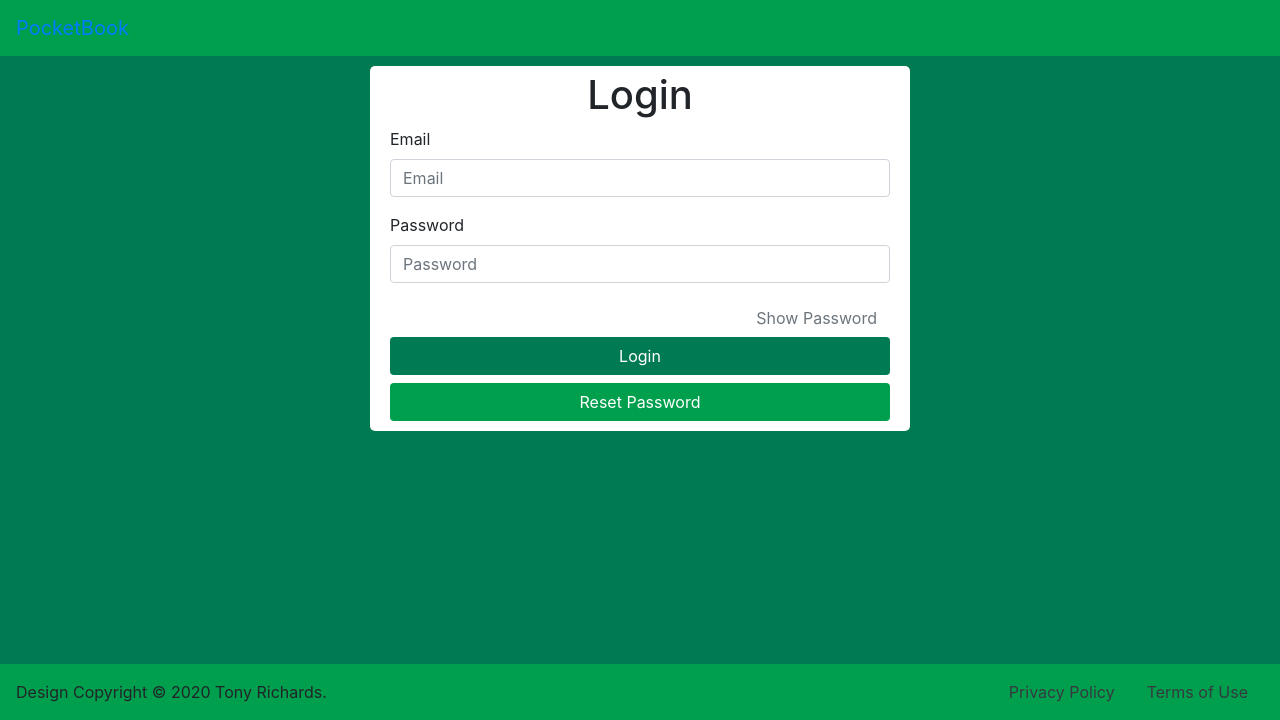
Test: Login Page › renders not authorised correctly
Type "test@sja.org.uk" into the field labelled "Email". click: (640, 178)
box: [390, 159, 890, 197]
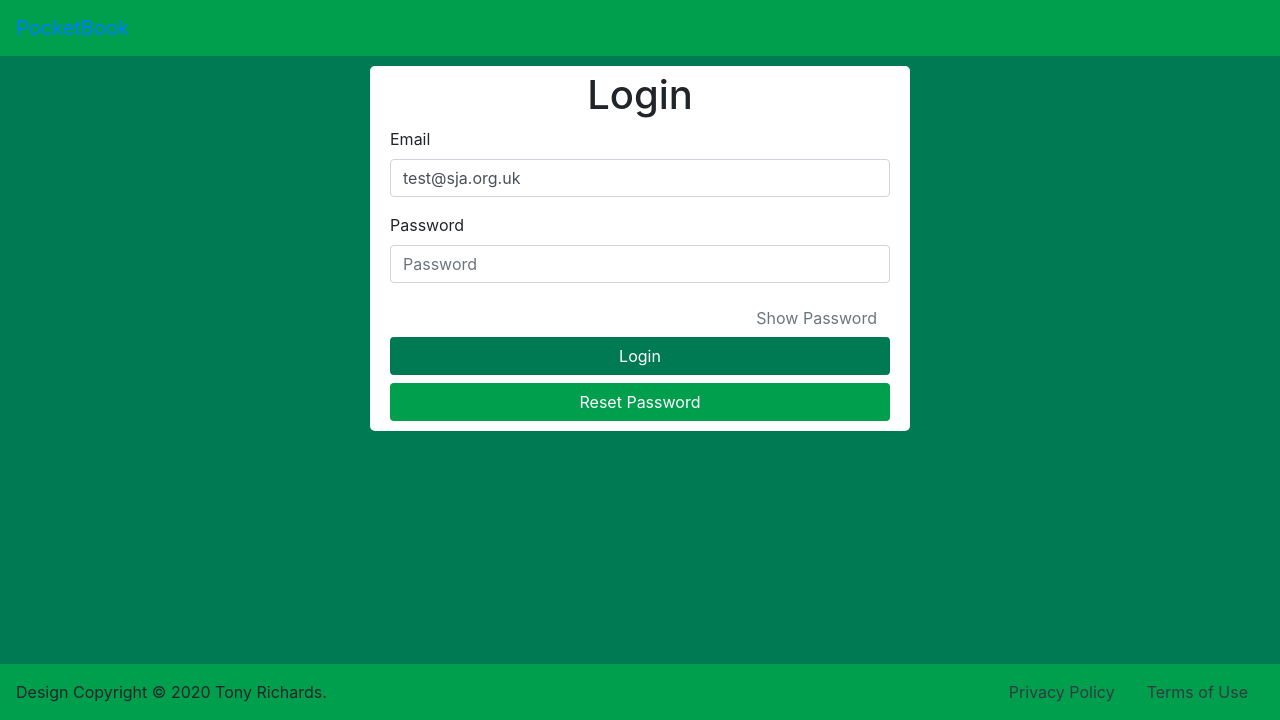
Type "testPassword" into the password field labelled "Password". click: (640, 264)
box: [390, 245, 890, 283]
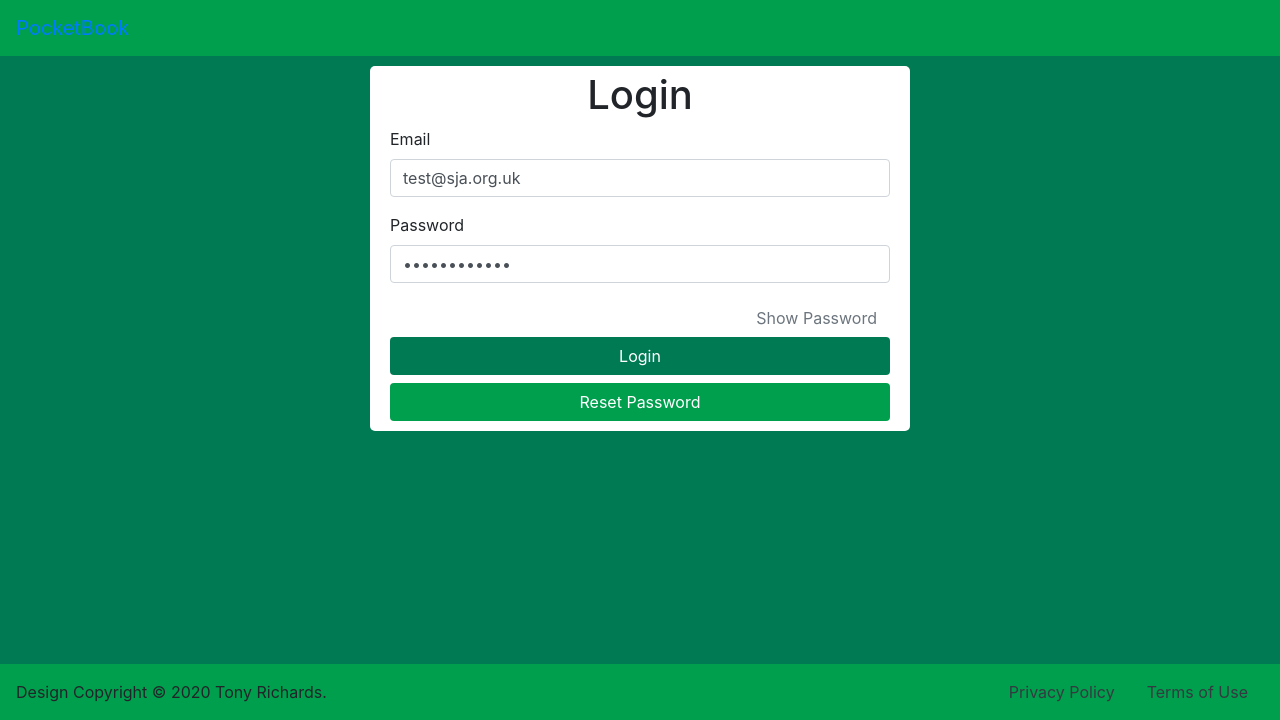
Click the button "Login". click: (640, 356)
box: [390, 337, 890, 375]
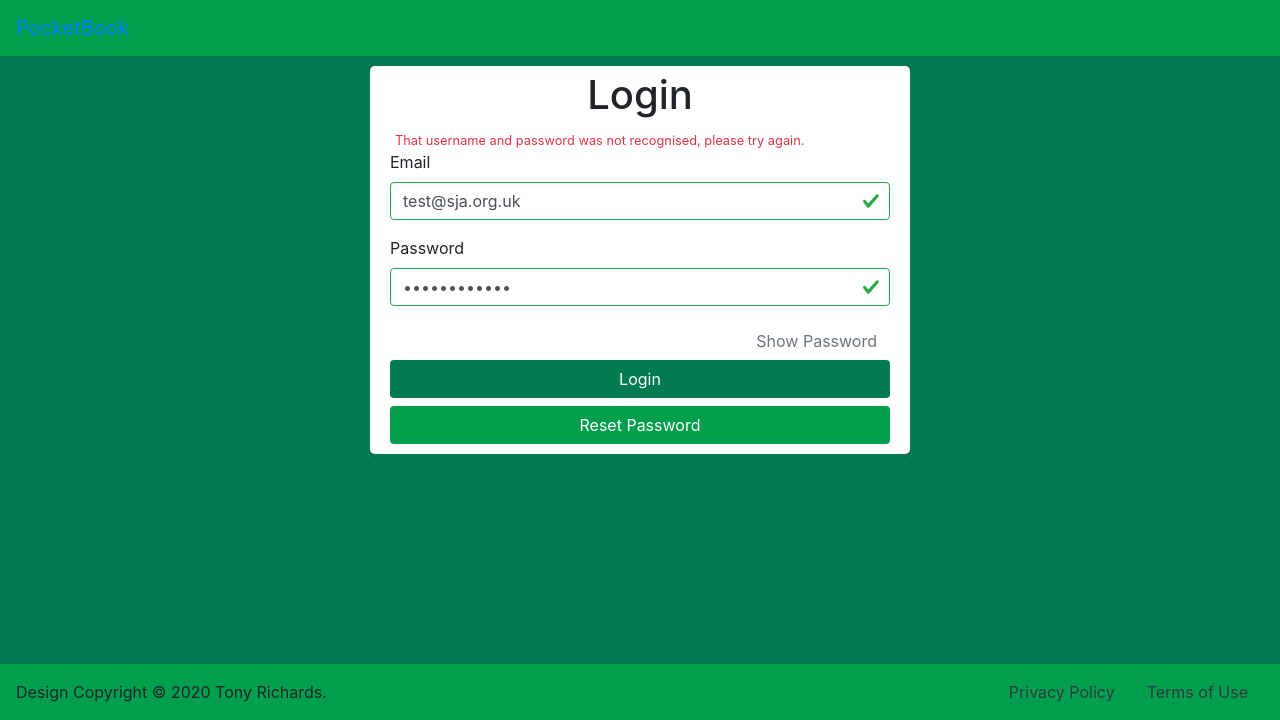
Now the text "That username and password was not recognised" is shown, box [395, 133, 804, 148]
